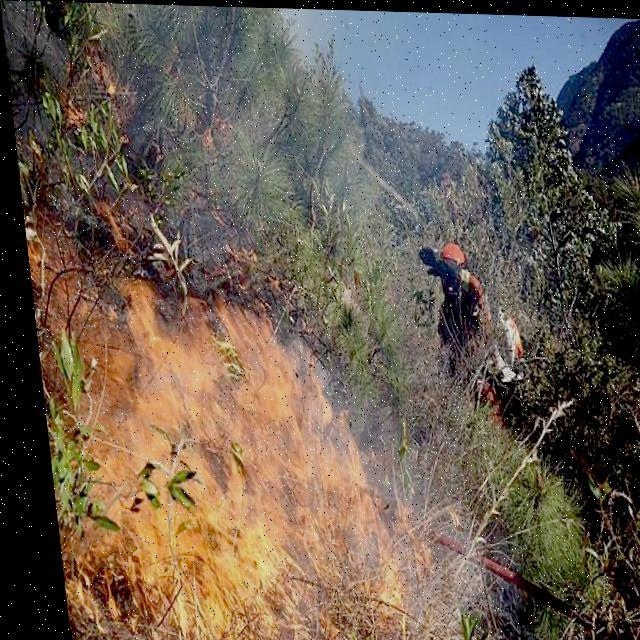Fire: (18, 190, 410, 639)
